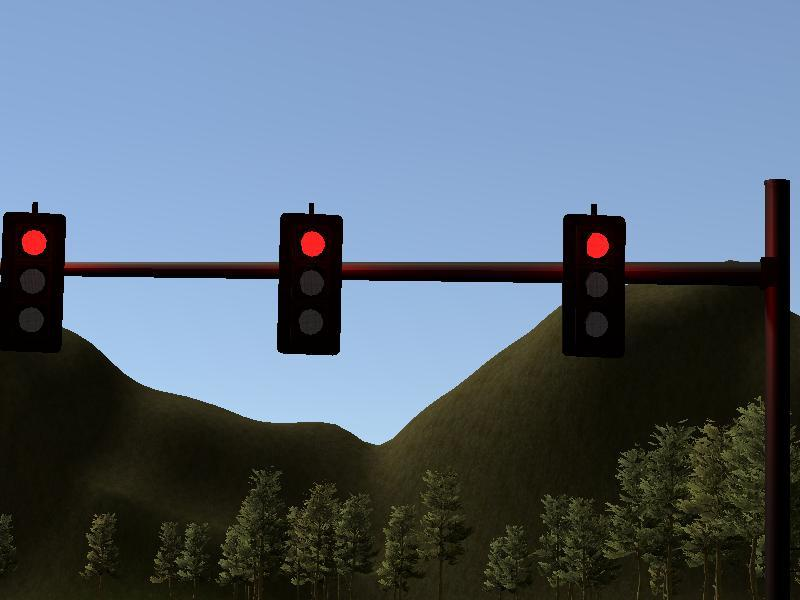Red: (564, 213, 624, 358), (6, 214, 67, 352), (281, 212, 338, 355)
